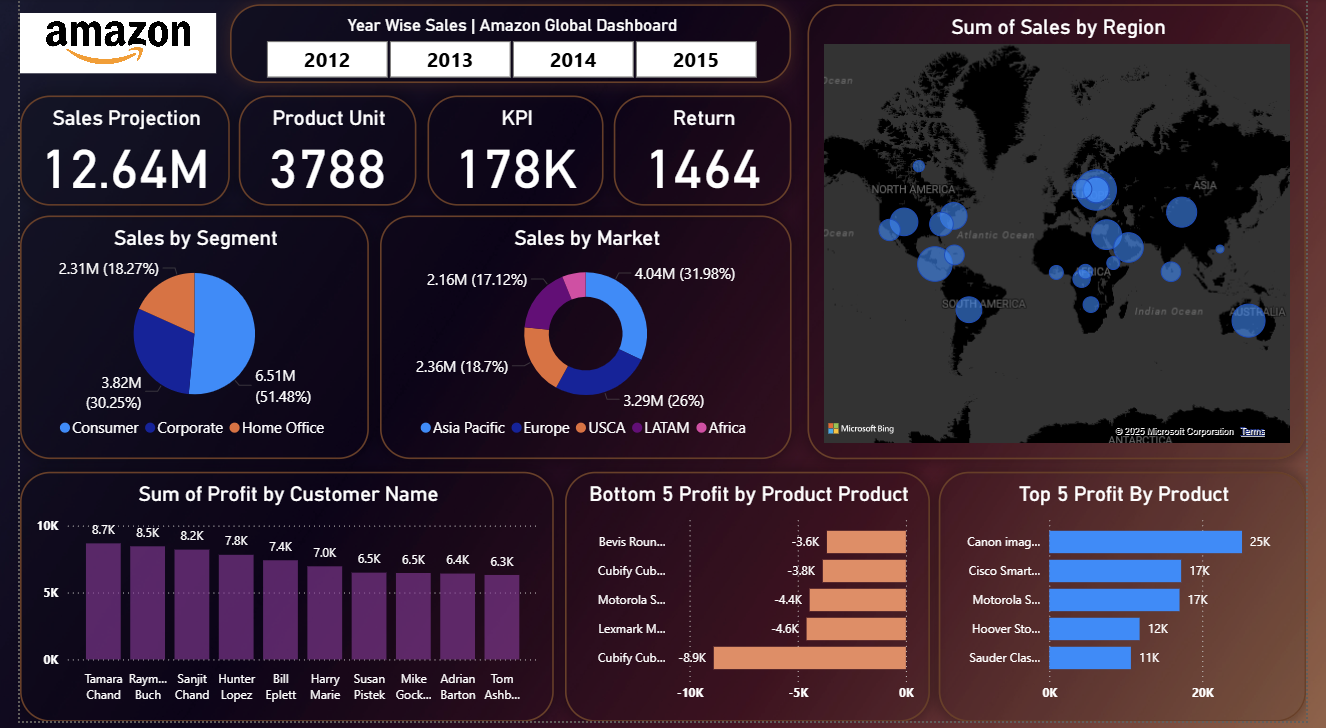

This screenshot's page, from the dashboard's own definition file:
{"tool":"powerbi","page":{"name":"Amazon Global SuperStore","canvas":[1280,720],"ordinal":0},"visuals":[{"type":"slicer","title":"Year Wise Sales | Amazon Global Dashboard","fields":{"Values":["Orders.Year"]},"box":[209,6.2,558.5,78.4],"z":0},{"type":"card","title":"Sales Projection","fields":{"Values":["Orders.Sales"]},"box":[0,97,209,109.5],"z":1000},{"type":"image","box":[0,14.9,195.3,59.7],"z":2000},{"type":"card","title":"Product Unit","fields":{"Values":["Orders.Product Name"]},"box":[217.7,97,176.6,109.5],"z":3000},{"type":"card","title":"KPI","fields":{"Values":["Orders.Quantity"]},"box":[405.5,97,175.4,109.5],"z":4000},{"type":"card","title":"Return","fields":{"Values":["Orders.Ship Date"]},"box":[590.9,97,176.6,109.5],"z":5000},{"type":"pieChart","title":"Sales by Segment","fields":{"Category":["Orders.Segment"],"Y":["Orders.Sales"]},"box":[0,216.4,347.1,242.6],"z":6000},{"type":"donutChart","title":" Sales by Market","fields":{"Y":["Orders.Sales"],"Category":["Orders.Market"]},"box":[358.3,216.4,409.3,242.6],"z":7000},{"type":"columnChart","fields":{"Category":["Orders.Customer Name"],"Y":["Orders.Profit"]},"box":[0,471.5,531.2,248.8],"z":8000},{"type":"clusteredBarChart","title":"Bottom 5 Profit by Product Product","fields":{"Y":["Orders.Profit"],"Category":["Orders.Product Name"]},"box":[542.4,471.5,363.2,248.8],"z":9000},{"type":"clusteredBarChart","title":"Top 5 Profit By Product","fields":{"Y":["Orders.Profit"],"Category":["Orders.Product Name"]},"box":[914.3,471.5,365.7,248.8],"z":10000},{"type":"map","fields":{"Category":["Orders.Region"],"Size":["Orders.Sales"]},"box":[783.7,6.2,496.3,452.8],"z":11000}]}

Visuals, with their boxes in screenshot pixels (x1, y1, x2, y2), scaled from the page's 1280x720 canvas onto the 1326x728 screenshot:
"Year Wise Sales | Amazon Global Dashboard" slicer: [left=217, top=6, right=795, bottom=86]
"Sales Projection" card: [left=0, top=98, right=217, bottom=209]
image: [left=0, top=15, right=202, bottom=75]
"Product Unit" card: [left=226, top=98, right=408, bottom=209]
"KPI" card: [left=420, top=98, right=602, bottom=209]
"Return" card: [left=612, top=98, right=795, bottom=209]
"Sales by Segment" pieChart: [left=0, top=219, right=360, bottom=464]
" Sales by Market" donutChart: [left=371, top=219, right=795, bottom=464]
columnChart - Orders.Customer Name x Orders.Profit: [left=0, top=477, right=550, bottom=727]
"Bottom 5 Profit by Product Product" clusteredBarChart: [left=562, top=477, right=938, bottom=727]
"Top 5 Profit By Product" clusteredBarChart: [left=947, top=477, right=1325, bottom=727]
map - Orders.Region x Orders.Sales: [left=812, top=6, right=1325, bottom=464]
